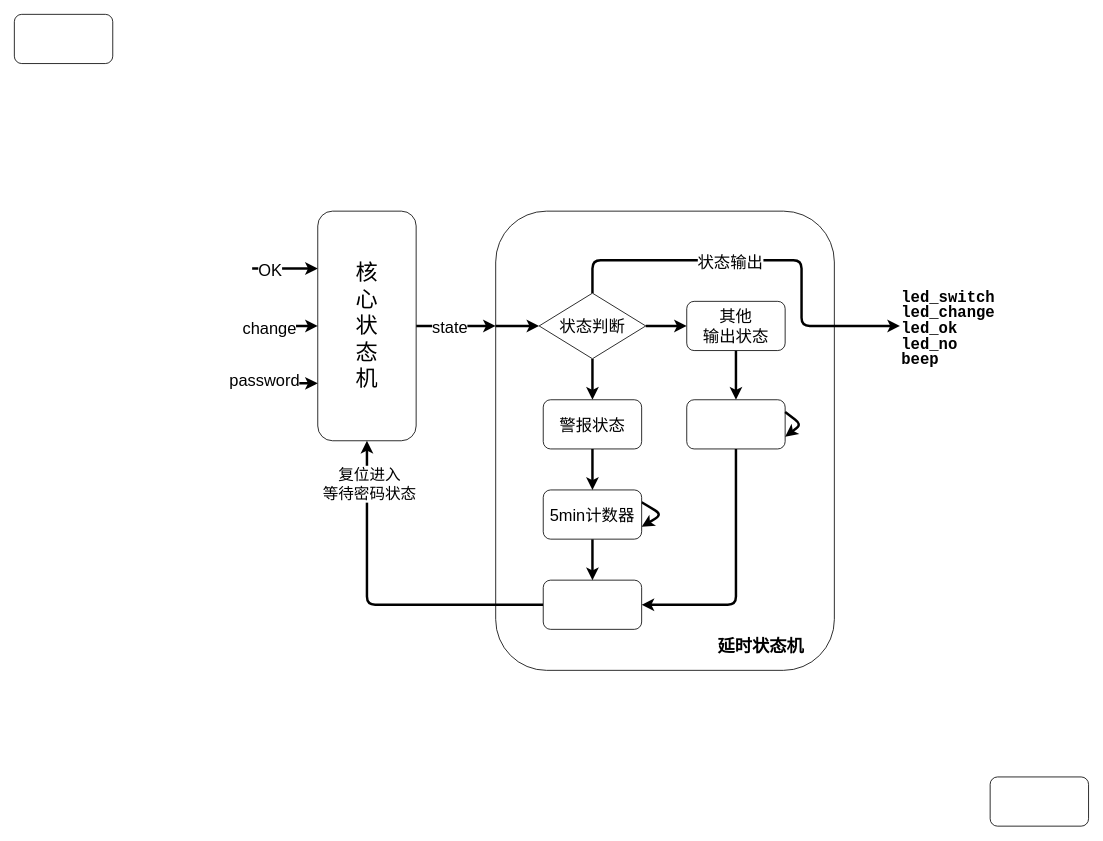
The diagram is 1103 pixels wide and 841 high, and some of its shapes have lost their labels. The centre of each missing label's shape, as x and y in pixels:
30s计数器: [735,424]
复位信号: [592,604]
